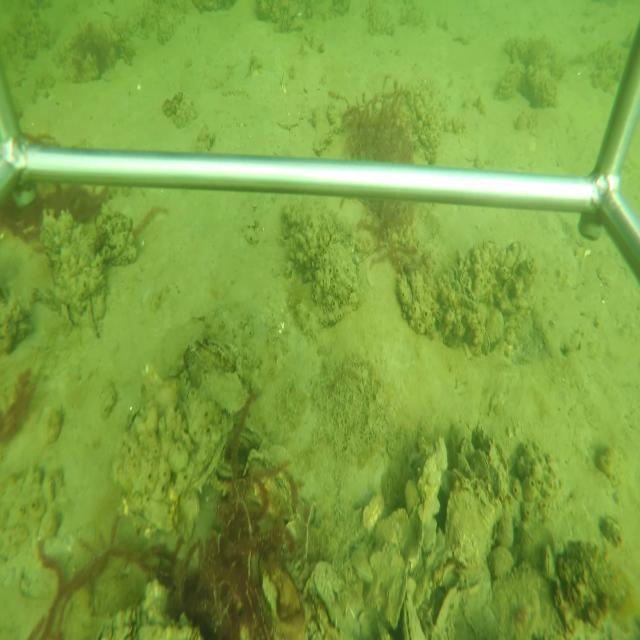Oyster-Closed: (115, 387, 234, 539), (403, 592, 429, 640)
Oyster-Indeterminate: (443, 481, 504, 577), (198, 365, 251, 419)
